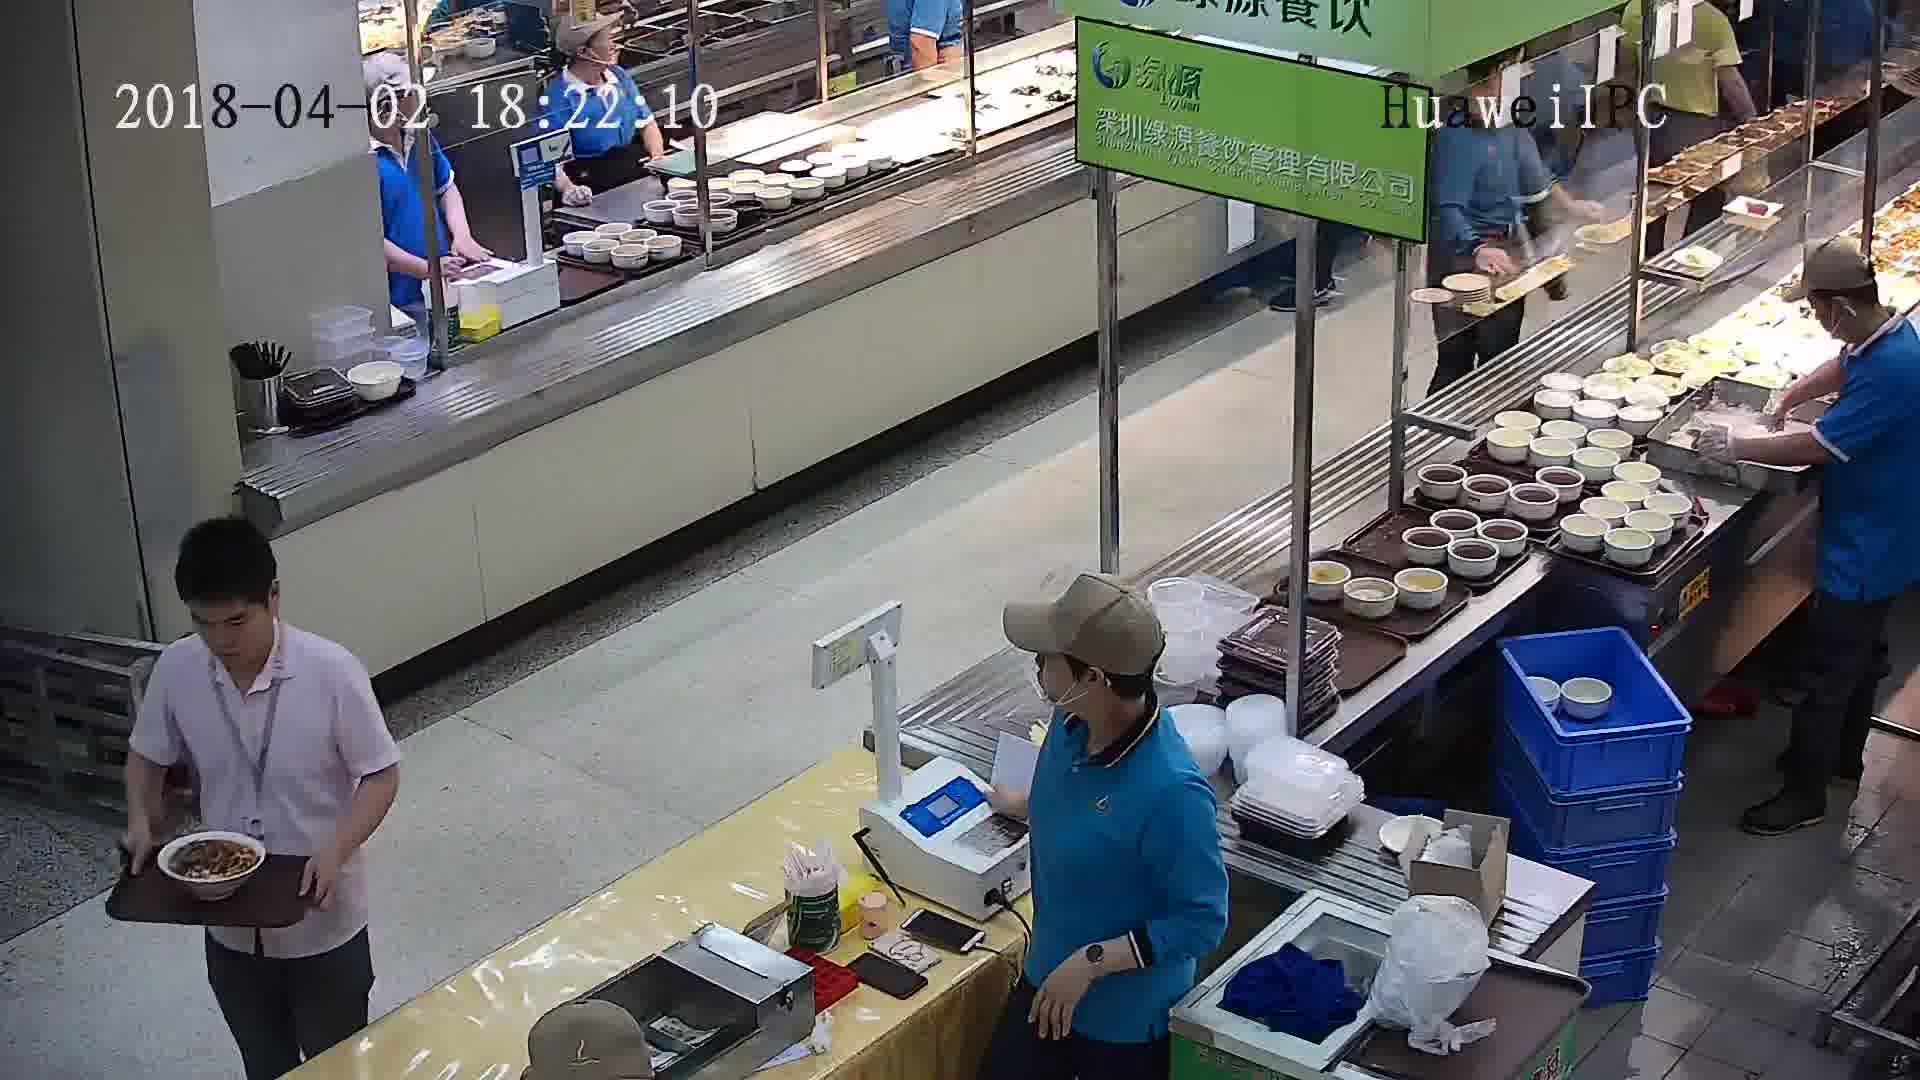face: (190, 591, 265, 667)
person: (136, 516, 382, 743), (1011, 565, 1217, 823), (1790, 246, 1919, 400), (1435, 49, 1532, 165), (541, 24, 641, 112), (367, 82, 443, 181)
